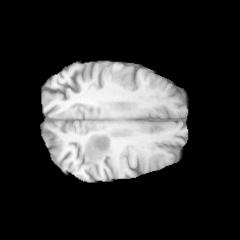glioma: (85, 134, 111, 161)
